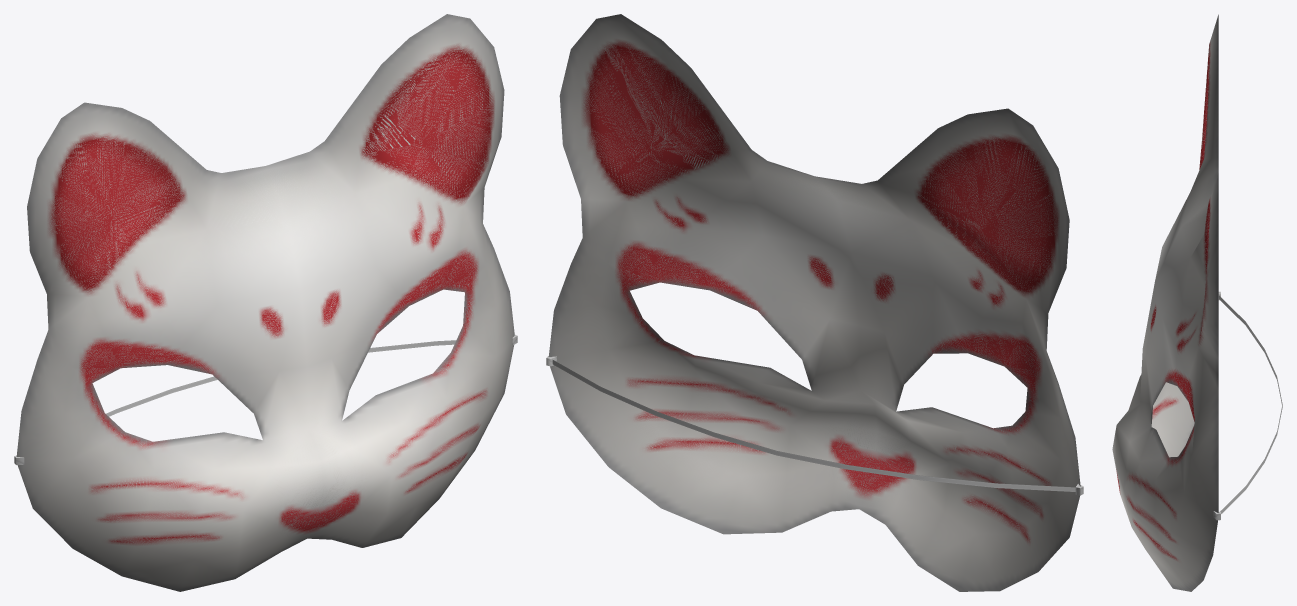
The model's file is jsf_Mask_29.fbx.
The picture shows the model from 3 angles, left to right: view 1: azimuth 30°, elevation 25°; view 2: azimuth 150°, elevation 25°; view 3: azimuth 270°, elevation 25°; orthographic projection. The views are drawn at different scales.
Visible parts, largest first — view 1: Mask_29, ElasticBand_29; view 2: Mask_29, ElasticBand_29; view 3: Mask_29, ElasticBand_29.
Part boxes in pixels (x1,y1,x2,y2): Mask_29: [14, 14, 517, 591]; ElasticBand_29: [106, 340, 456, 416]; Mask_29: [546, 14, 1083, 591]; ElasticBand_29: [552, 360, 1075, 491]; Mask_29: [1112, 14, 1220, 591]; ElasticBand_29: [1219, 295, 1282, 513].
Size of the model in its own units: 23.29 by 21.67 by 7.52.
